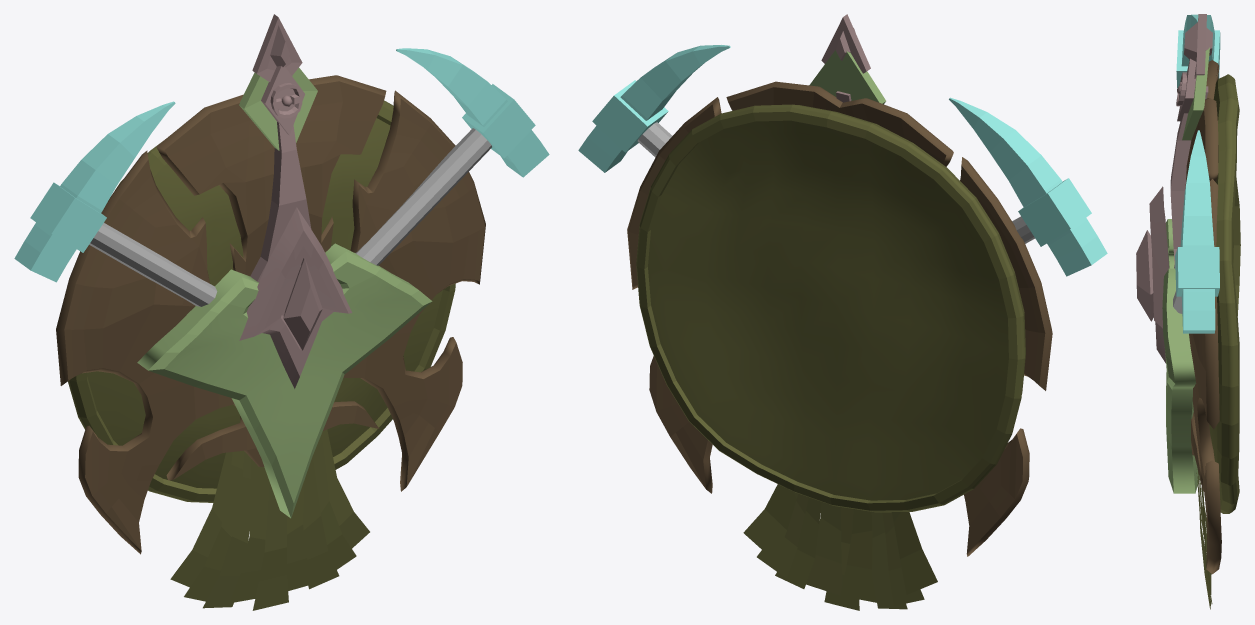
File: shield_1.fbx
The picture shows the model from 3 angles, left to right: view 1: azimuth 30°, elevation 25°; view 2: azimuth 150°, elevation 25°; view 3: azimuth 270°, elevation 25°; orthographic projection. The views are drawn at different scales.
Visible parts, largest first — view 1: polySurface38, polySurface39, polySurface24, polySurface25, polySurface28, polySurface26; view 2: polySurface39, polySurface38, polySurface28, polySurface24, polySurface25, polySurface26; view 3: polySurface39, polySurface38, polySurface28, polySurface25, polySurface24.
Part boxes in pixels (box(x1,y1,x2,y2)): polySurface38: box(56, 75, 485, 554); polySurface39: box(68, 100, 455, 610); polySurface24: box(137, 67, 432, 518); polySurface25: box(239, 14, 352, 388); polySurface28: box(14, 48, 549, 282); polySurface26: box(89, 128, 491, 306); polySurface39: box(636, 104, 1025, 610); polySurface38: box(627, 81, 1052, 556); polySurface28: box(578, 45, 1107, 276); polySurface24: box(809, 49, 885, 104); polySurface25: box(821, 14, 870, 102); polySurface26: box(637, 122, 1034, 243); polySurface39: box(1196, 74, 1240, 609); polySurface38: box(1185, 60, 1221, 574); polySurface28: box(1175, 14, 1220, 333); polySurface25: box(1136, 14, 1212, 363); polySurface24: box(1162, 47, 1209, 493).
Size of the model in its own units: 18.67 by 20.42 by 3.35.
